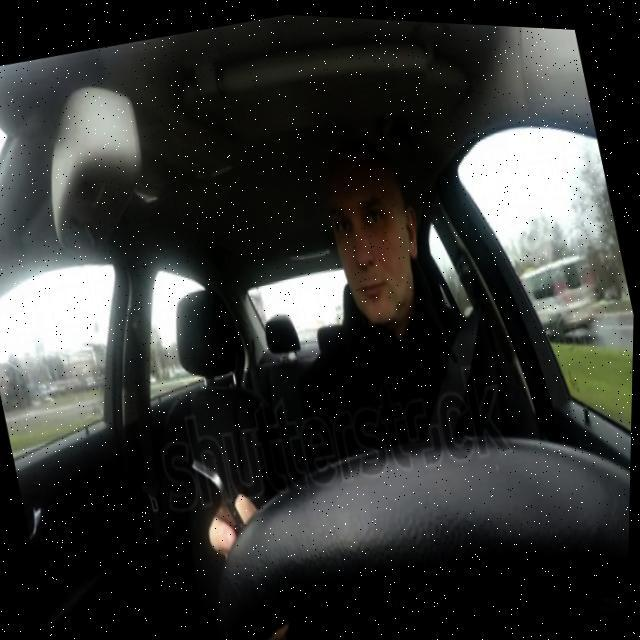PhoneCall: (190, 450, 249, 556)
